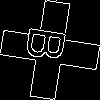B: (25, 25, 76, 65)
